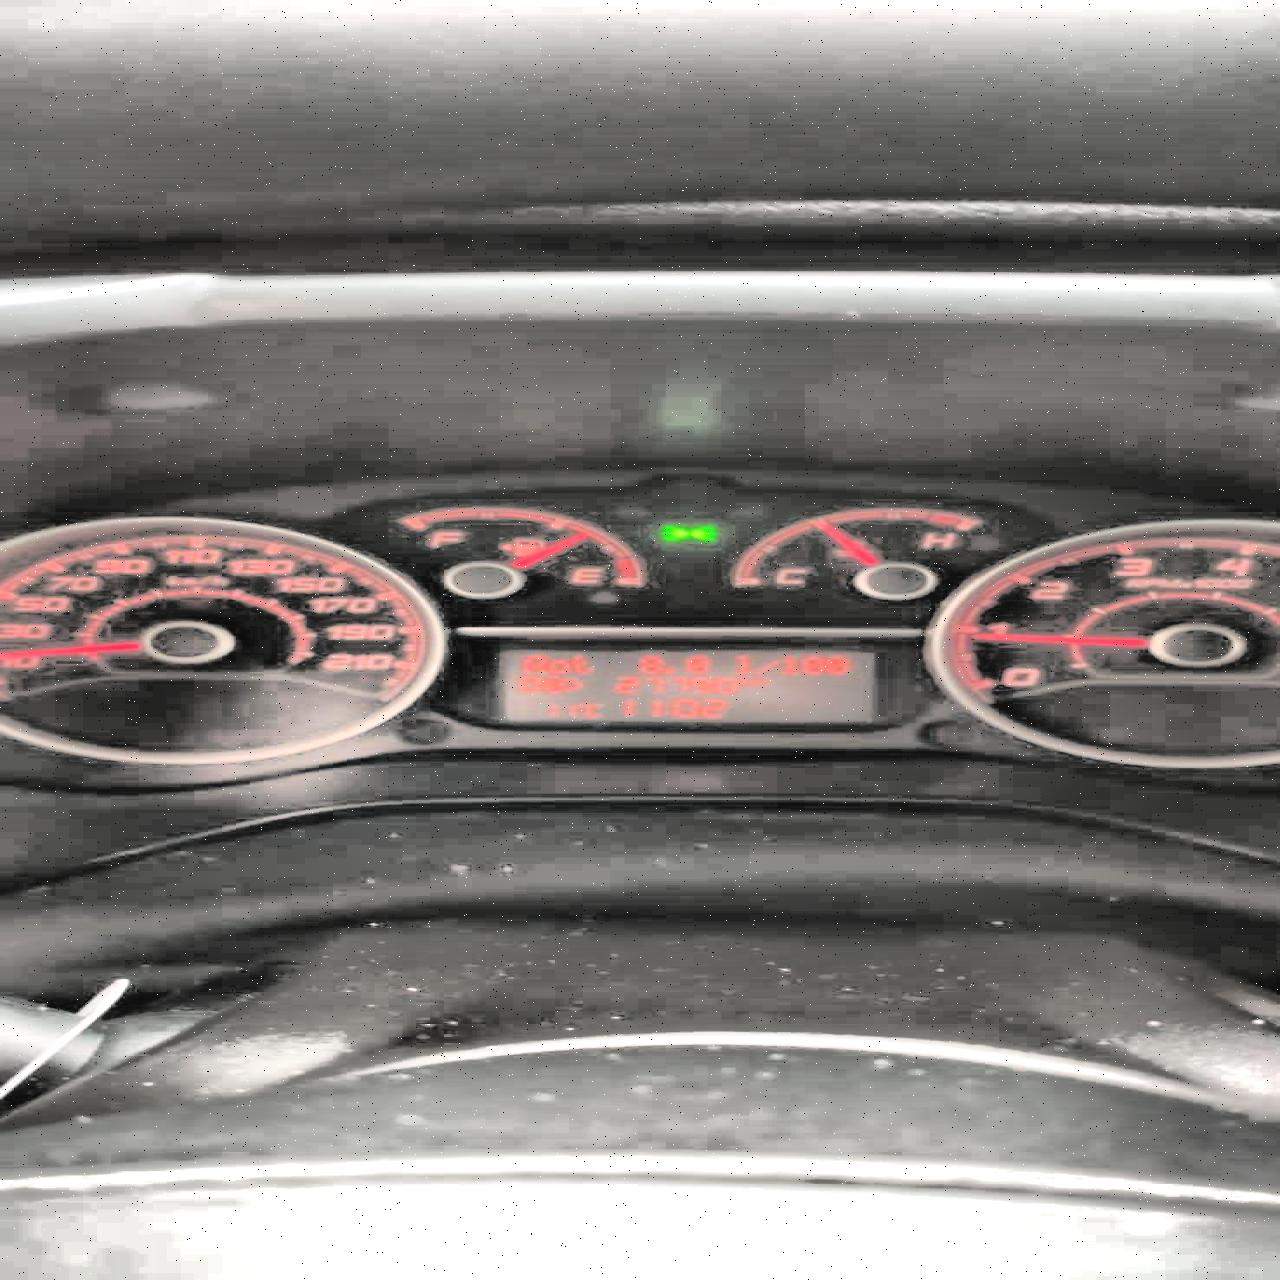-: (662, 667, 674, 674)
0: (669, 696, 699, 717), (822, 655, 852, 675), (682, 654, 712, 674), (712, 676, 738, 694), (799, 655, 824, 674), (517, 676, 543, 692)
1: (619, 697, 636, 716), (781, 654, 796, 675), (645, 699, 662, 716), (545, 702, 558, 716), (564, 702, 576, 717)
2: (699, 697, 727, 720), (611, 675, 641, 694)
7: (644, 675, 668, 692), (669, 676, 688, 693)
8: (636, 655, 662, 673)
9: (689, 675, 712, 694)
X: (568, 653, 593, 675), (731, 652, 751, 676), (522, 654, 546, 673), (753, 660, 778, 675), (546, 658, 568, 674), (583, 702, 602, 717), (753, 678, 768, 686), (741, 678, 753, 686)
odometer: (481, 642, 887, 728)
